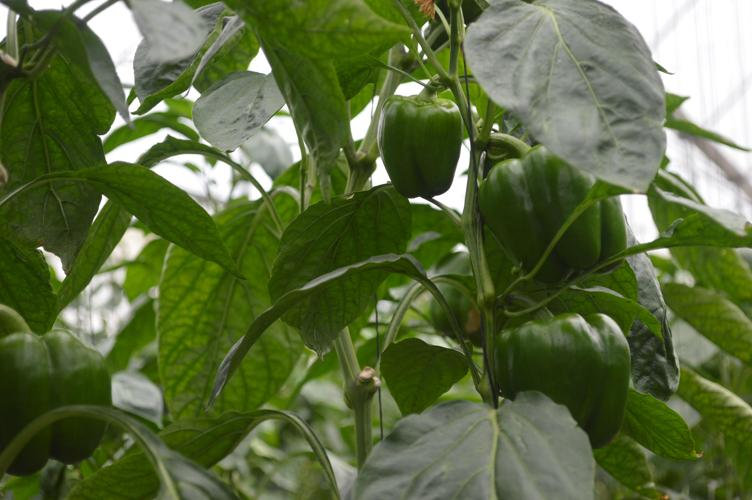BellPepper: (485, 317, 646, 468), (478, 136, 624, 284), (1, 323, 123, 480), (365, 90, 476, 218)
